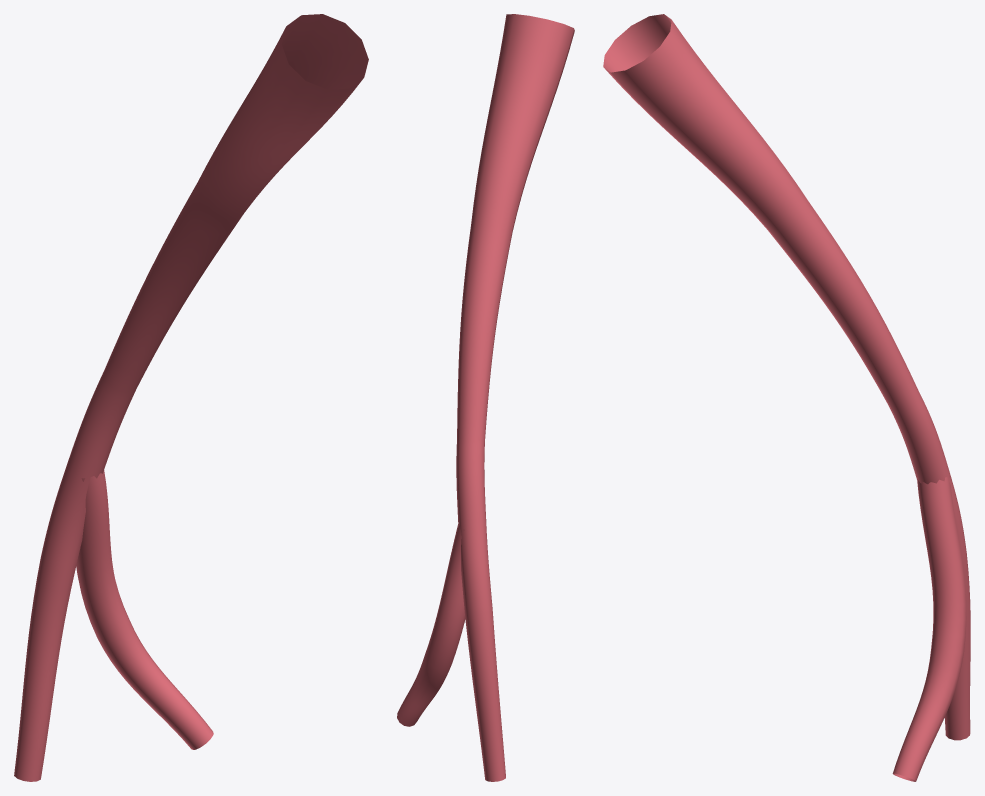
3 views of the same model, side by side, from view 1: azimuth 30°, elevation 25°; view 2: azimuth 150°, elevation 25°; view 3: azimuth 270°, elevation 25° (orthographic). The views are drawn at different scales.
Visible parts, largest first — view 1: ZA_374f864aff12f8bb; view 2: ZA_374f864aff12f8bb; view 3: ZA_374f864aff12f8bb.
Part boxes in pixels (bbox=[...]): ZA_374f864aff12f8bb: bbox=[14, 14, 368, 781]; ZA_374f864aff12f8bb: bbox=[397, 14, 574, 781]; ZA_374f864aff12f8bb: bbox=[603, 14, 970, 781].
Bounding box in the file's own units: 0.0212 × 0.1006 × 0.0438.
